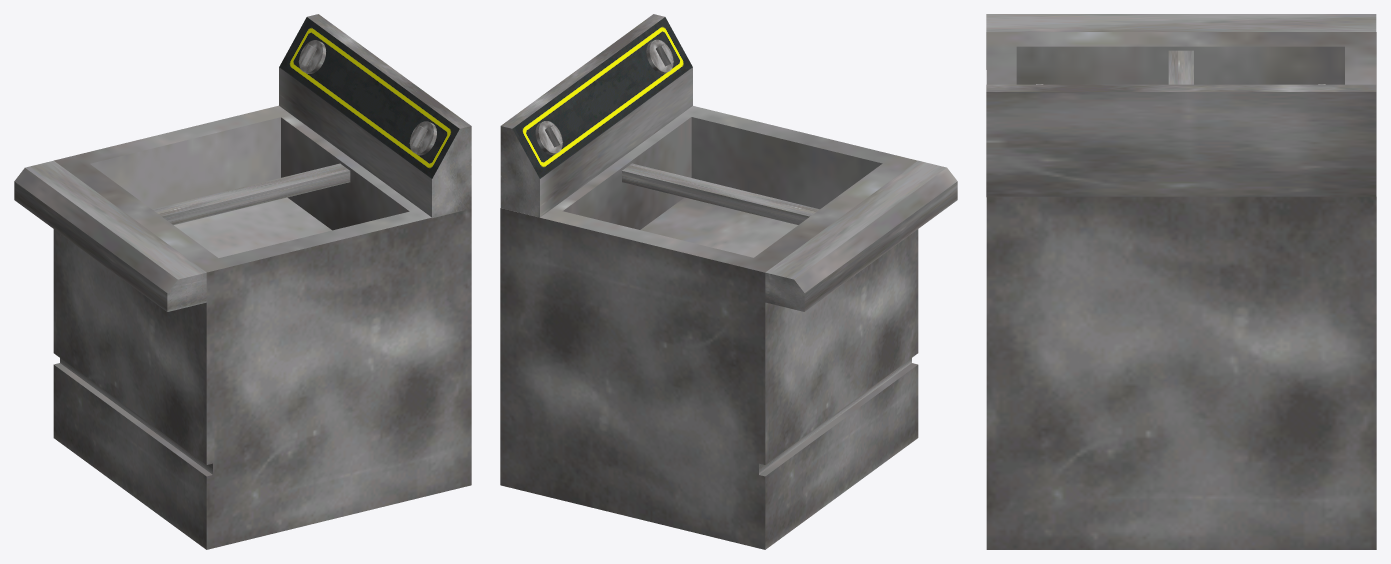
Rendered from freidora.obj.
3 views of the same model, side by side, from view 1: azimuth 30°, elevation 25°; view 2: azimuth 150°, elevation 25°; view 3: azimuth 270°, elevation 25° (orthographic). The views are drawn at different scales.
Visible parts, largest first — view 1: polySurface9, polySurface3, polySurface2, pCube1, pasted__pasted__pDisc2 pasted__group23 group24, pasted__pDisc2 group23; view 2: polySurface9, polySurface3, polySurface2, pCube1, pasted__pasted__pDisc2 pasted__group23 group24, pasted__pDisc2 group23; view 3: polySurface9, polySurface3, polySurface2, pCube1.
Part boxes in pixels (x1=…): polySurface9: x1=53, y1=105, x2=471, y2=549; polySurface3: x1=279, y1=14, x2=471, y2=218; polySurface2: x1=14, y1=160, x2=206, y2=311; pCube1: x1=152, y1=163, x2=350, y2=224; pasted__pasted__pDisc2 pasted__group23 group24: x1=409, y1=121, x2=436, y2=155; pasted__pDisc2 group23: x1=298, y1=40, x2=325, y2=73; polySurface9: x1=500, y1=106, x2=918, y2=549; polySurface3: x1=500, y1=14, x2=692, y2=217; polySurface2: x1=765, y1=160, x2=957, y2=311; pCube1: x1=622, y1=163, x2=819, y2=224; pasted__pasted__pDisc2 pasted__group23 group24: x1=646, y1=39, x2=673, y2=73; pasted__pDisc2 group23: x1=535, y1=121, x2=562, y2=154; polySurface9: x1=986, y1=32, x2=1376, y2=549; polySurface3: x1=986, y1=84, x2=1376, y2=196; polySurface2: x1=986, y1=14, x2=1376, y2=69; pCube1: x1=1168, y1=50, x2=1193, y2=84.
Size of the model in its own units: 1.15 by 1.3 by 1.
Materials: 2 (2 with a texture image).
